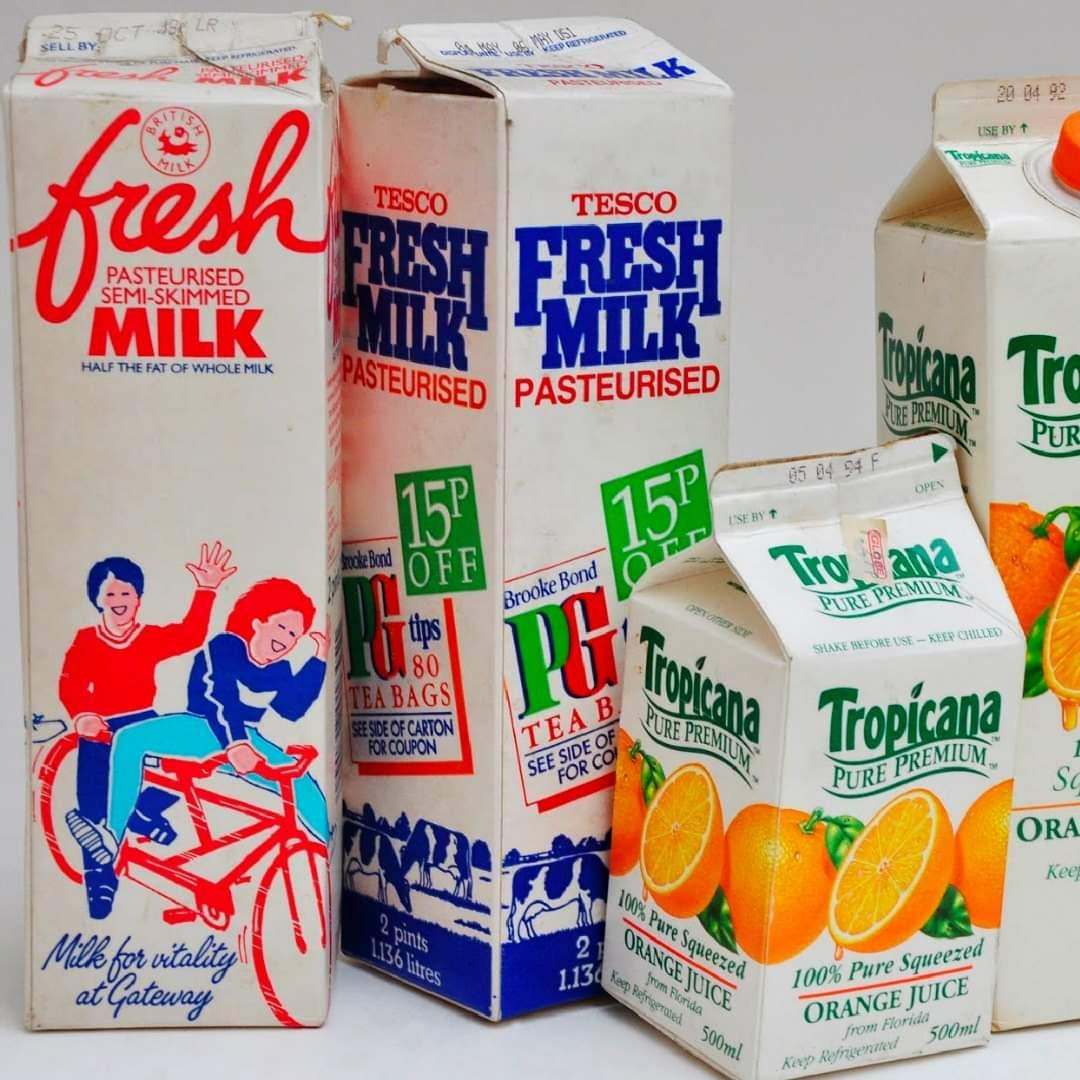cardboard: (339, 19, 730, 1017), (5, 15, 339, 1028), (603, 438, 1022, 1079), (875, 74, 1079, 1079)
